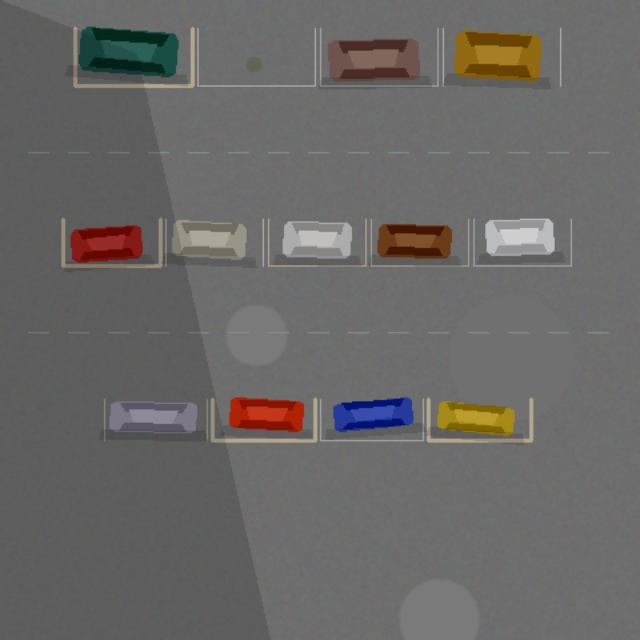space-empty: (197, 28, 315, 85)
space-occupied: (75, 28, 192, 85), (320, 28, 437, 85), (443, 28, 560, 85), (165, 219, 263, 265), (473, 219, 571, 265), (63, 219, 160, 265), (268, 219, 365, 265), (371, 219, 468, 265), (104, 399, 207, 440), (212, 399, 315, 440), (320, 399, 423, 440), (428, 399, 531, 440)
